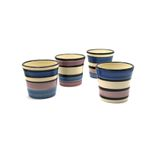cups: (94, 60, 138, 105), (19, 57, 61, 100), (53, 51, 87, 89), (85, 47, 116, 83)
